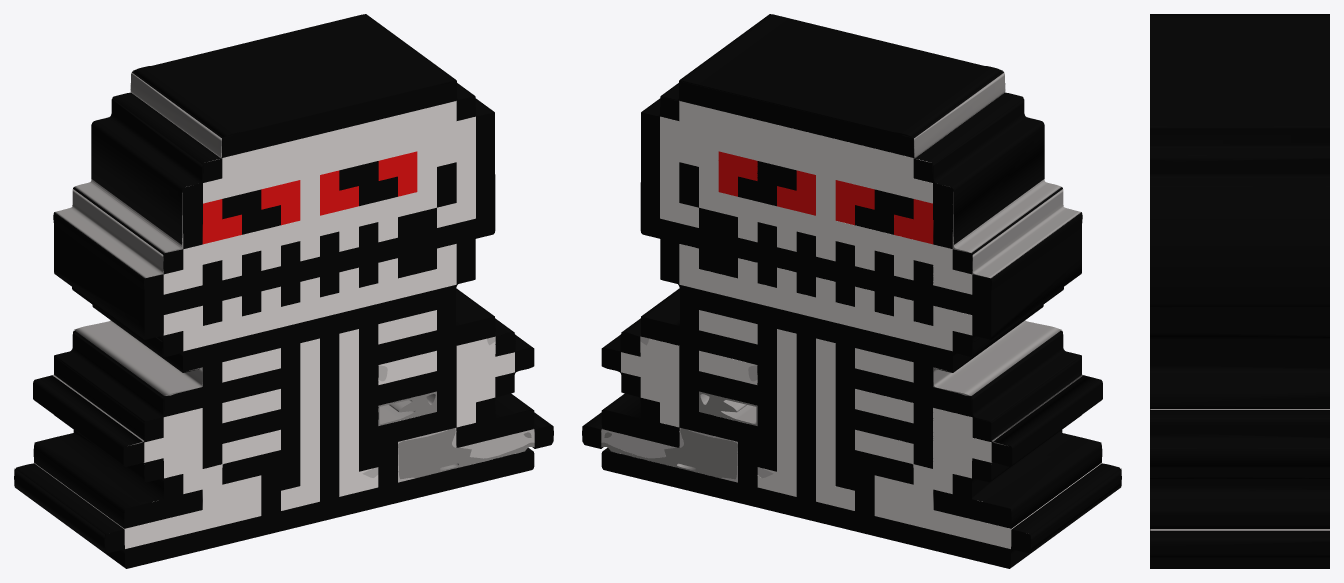
File: Toadz_5057.glb
3 renders of one model, left to right at view 1: azimuth 30°, elevation 25°; view 2: azimuth 150°, elevation 25°; view 3: azimuth 270°, elevation 25°, orthographic.
Parts seen in each view (by area): view 1: Curve; view 2: Curve; view 3: Curve.
Boxes of the visible parts, bbox=[...] form: Curve: bbox=[14, 14, 553, 568]; Curve: bbox=[582, 14, 1121, 568]; Curve: bbox=[1150, 14, 1329, 568].
Size of the model in its own units: 2.87 by 2.49 by 1.
